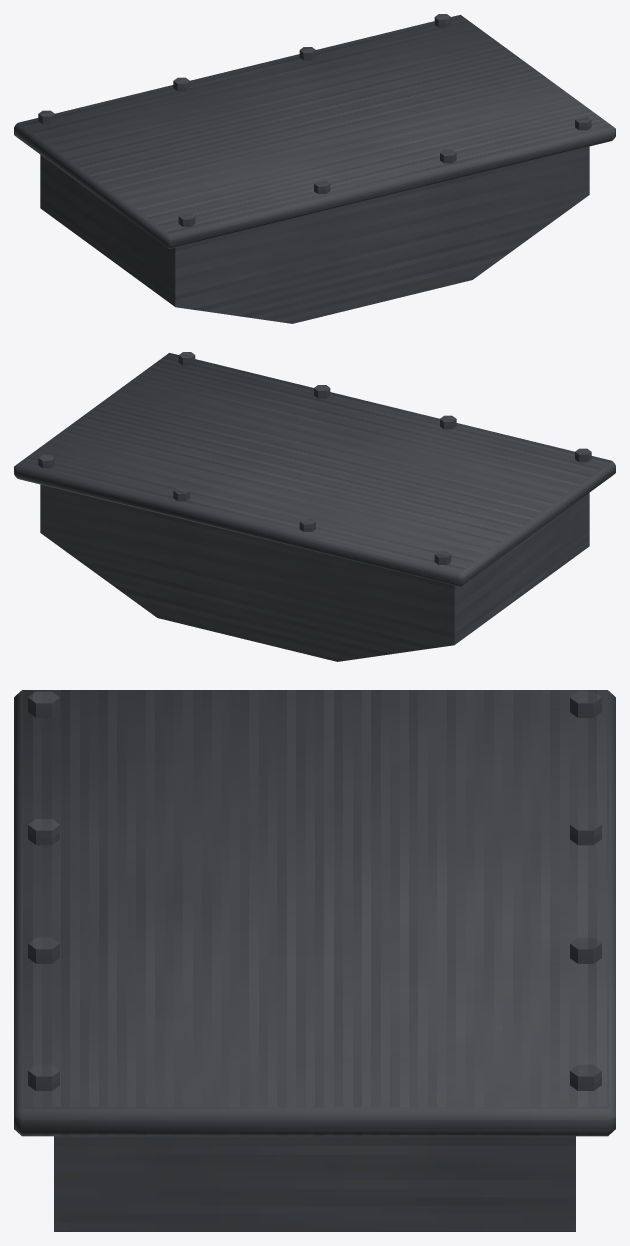
File: carter_fabrica.glb
3 views of the same model, one above another, from view 1: azimuth 30°, elevation 25°; view 2: azimuth 150°, elevation 25°; view 3: azimuth 270°, elevation 25° (orthographic). The views are drawn at different scales.
Parts seen in each view (by area): view 1: carter_fabrica; view 2: carter_fabrica; view 3: carter_fabrica.
Boxes of the visible parts, x1,y1,x2,y2 form: carter_fabrica: [14, 14, 615, 323]; carter_fabrica: [14, 352, 615, 661]; carter_fabrica: [14, 690, 615, 1231].
Size of the model in its own units: 0.5 by 0.154 by 0.3.
1 material, 1 textured.
